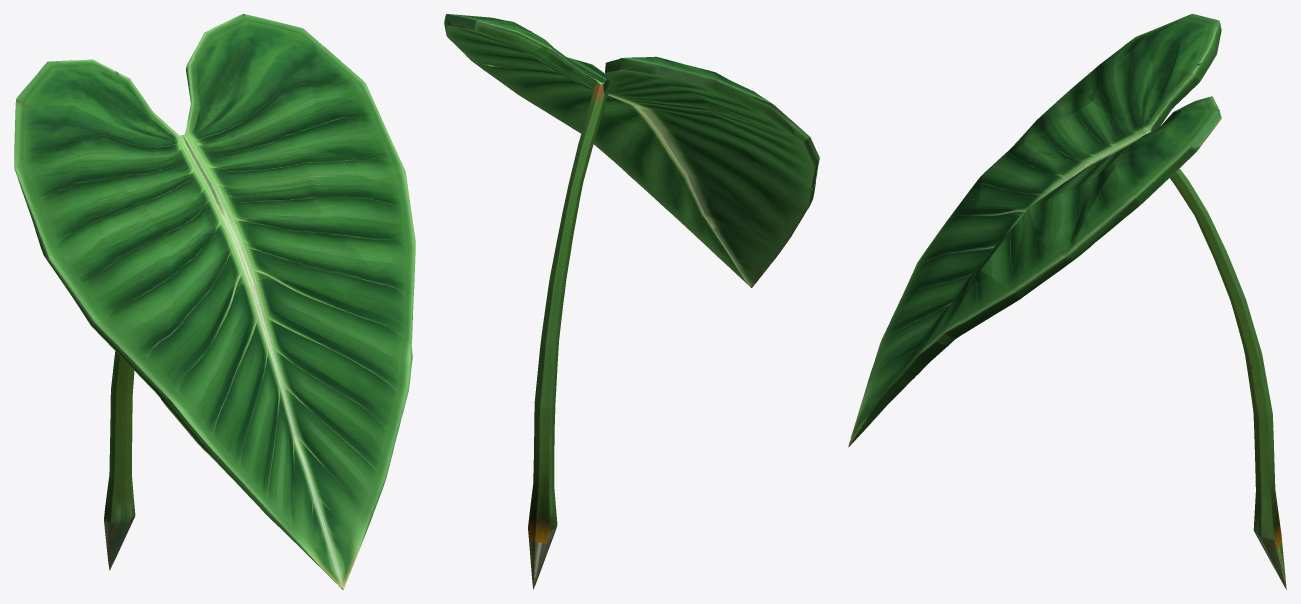
The model's file is pp_leaf_mid_plain.glb.
3 renders of one model, left to right at view 1: azimuth 30°, elevation 25°; view 2: azimuth 150°, elevation 25°; view 3: azimuth 270°, elevation 25°, orthographic. The views are drawn at different scales.
Bounding box in the file's own units: 1.27 × 1.9 × 1.44.
1 material, 1 textured.
